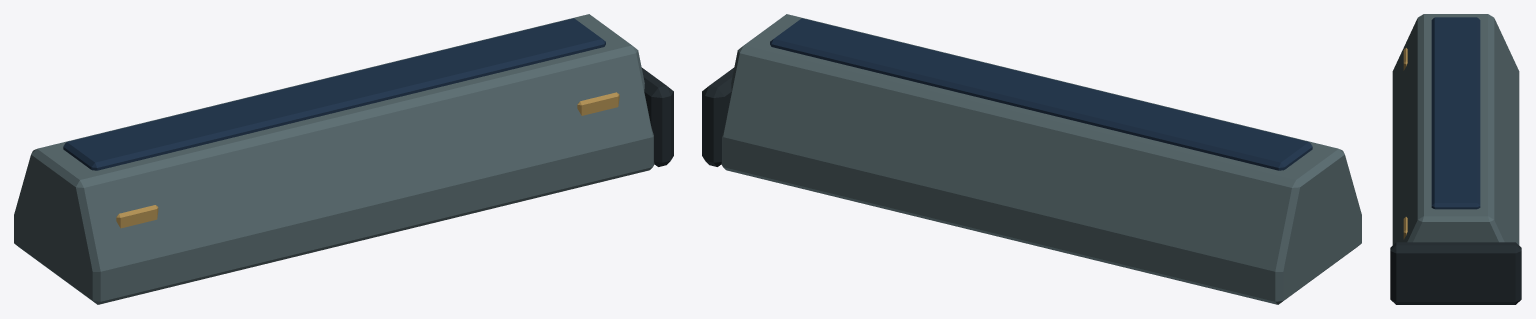
File: ROAD_DIVIDER.lo.glb
The picture shows the model from 3 angles, left to right: view 1: azimuth 30°, elevation 25°; view 2: azimuth 150°, elevation 25°; view 3: azimuth 270°, elevation 25°; orthographic projection. The views are drawn at different scales.
Visible parts, largest first — view 1: Body_Mesh, EndCapPivot_Mesh; view 2: Body_Mesh, EndCapPivot_Mesh; view 3: Body_Mesh, EndCapPivot_Mesh.
Part boxes in pixels (x1=…): Body_Mesh: x1=14, y1=14, x2=654, y2=304; EndCapPivot_Mesh: x1=641, y1=67, x2=673, y2=166; Body_Mesh: x1=721, y1=14, x2=1361, y2=304; EndCapPivot_Mesh: x1=702, y1=67, x2=734, y2=166; Body_Mesh: x1=1392, y1=14, x2=1519, y2=244; EndCapPivot_Mesh: x1=1390, y1=242, x2=1521, y2=304.
Size of the model in its own units: 2.06 by 0.4025 by 0.54.
